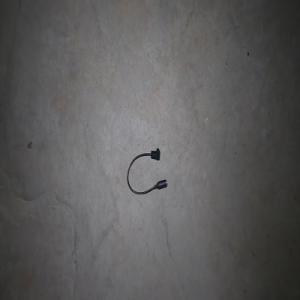Wire: (126, 147, 167, 194)
